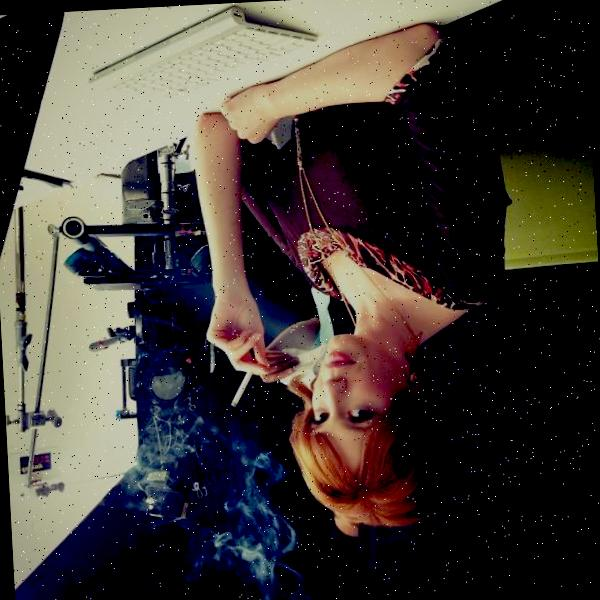smoke: (119, 396, 329, 600)
